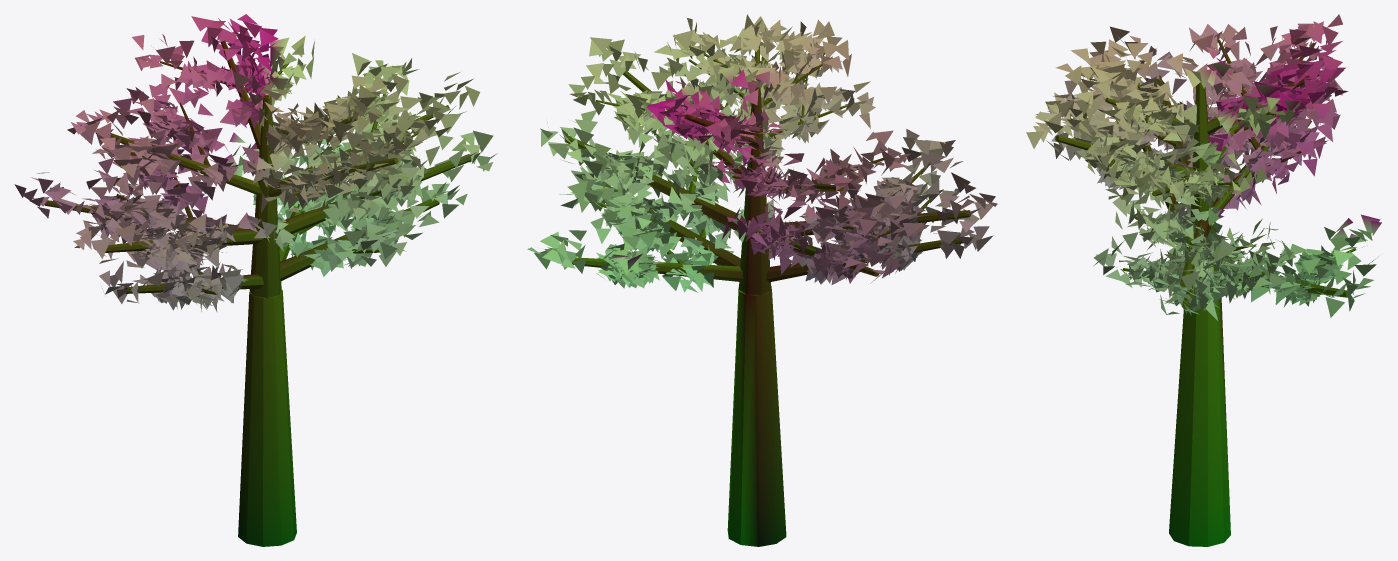
File: ecological_savanna_mature_01.glb
The picture shows the model from 3 angles, left to right: view 1: azimuth 30°, elevation 25°; view 2: azimuth 150°, elevation 25°; view 3: azimuth 270°, elevation 25°; orthographic projection. The views are drawn at different scales.
Visible parts, largest first — view 1: ecological_savanna_mature_01; view 2: ecological_savanna_mature_01; view 3: ecological_savanna_mature_01.
Boxes of the visible parts, left/top/right/bottom form: ecological_savanna_mature_01: left=14, top=14, right=497, bottom=546; ecological_savanna_mature_01: left=527, top=14, right=997, bottom=546; ecological_savanna_mature_01: left=1026, top=14, right=1381, bottom=546.
Size of the model in its own units: 28.39 by 29.22 by 19.32.
